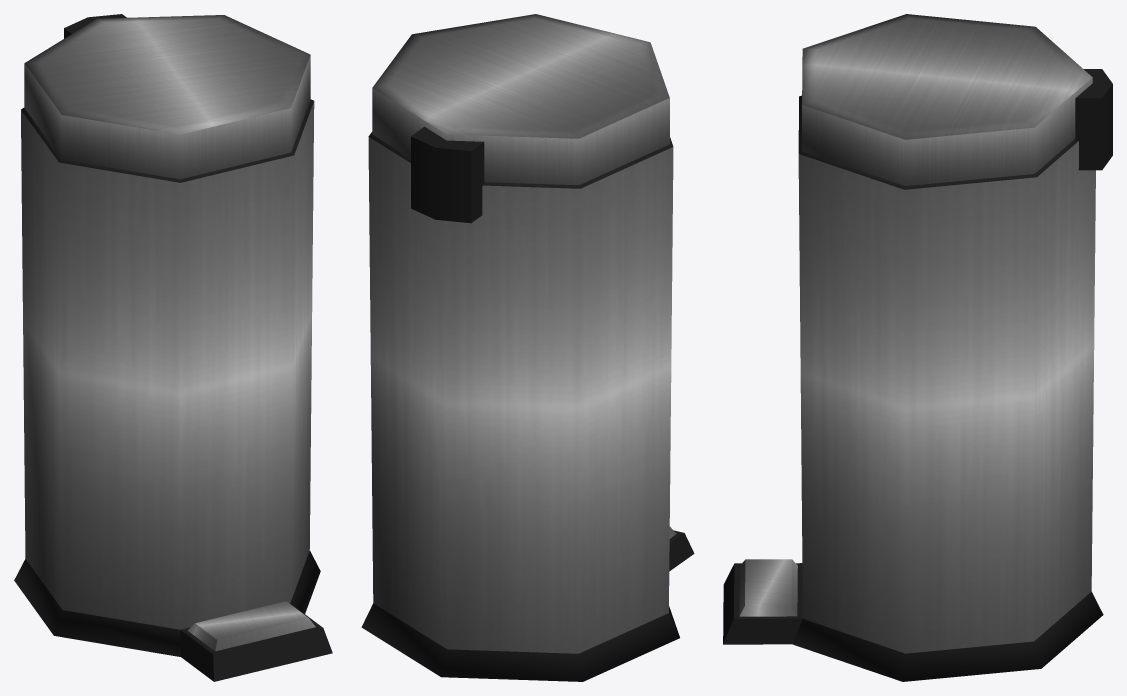
Rendered from Kitchen_Trash.FBX.
3 renders of one model, left to right at view 1: azimuth 30°, elevation 25°; view 2: azimuth 150°, elevation 25°; view 3: azimuth 270°, elevation 25°, orthographic. The views are drawn at different scales.
Parts seen in each view (by area): view 1: Trash_Can; view 2: Trash_Can; view 3: Trash_Can.
Boxes of the visible parts, x1,y1,x2,y2 form: Trash_Can: [14, 14, 332, 681]; Trash_Can: [361, 14, 694, 681]; Trash_Can: [723, 14, 1112, 681].
Size of the model in its own units: 85.27 by 159 by 104.
